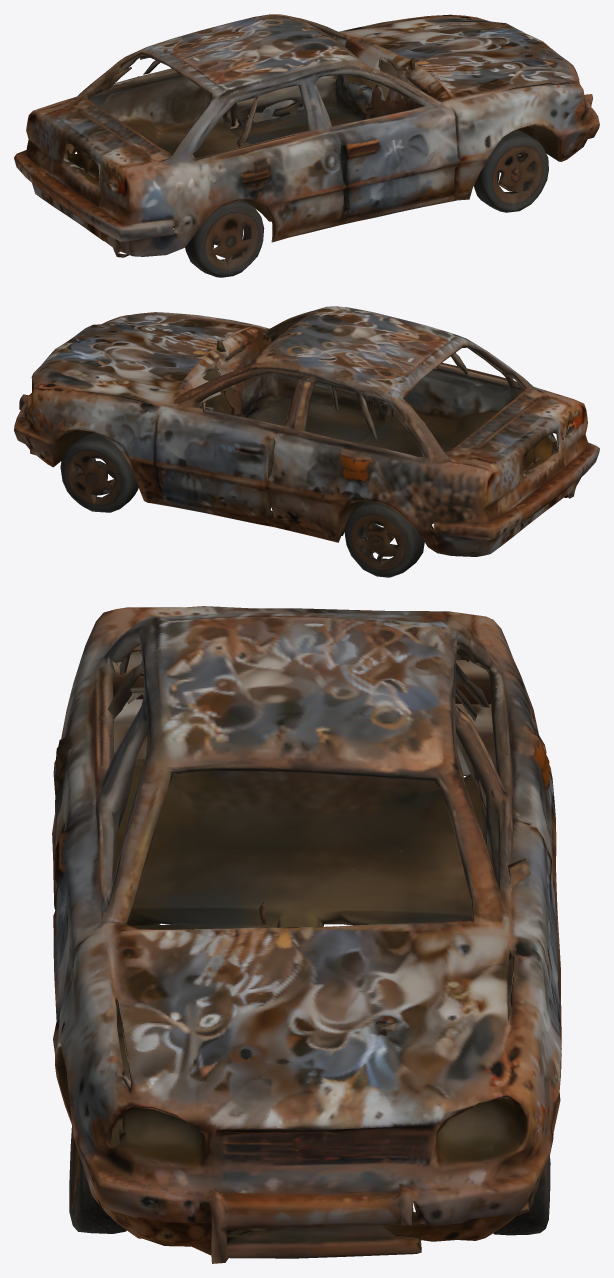
Rendered from wreck.glb.
3 renders of one model, top to bottom at view 1: azimuth 30°, elevation 25°; view 2: azimuth 150°, elevation 25°; view 3: azimuth 270°, elevation 25°, orthographic. The views are drawn at different scales.
Visible parts, largest first — view 1: tripo_node_1b298efb-ad02-42ea-9340-f791b65c3d16; view 2: tripo_node_1b298efb-ad02-42ea-9340-f791b65c3d16; view 3: tripo_node_1b298efb-ad02-42ea-9340-f791b65c3d16.
Boxes of the visible parts, x1,y1,x2,y2 form: tripo_node_1b298efb-ad02-42ea-9340-f791b65c3d16: [14, 14, 599, 277]; tripo_node_1b298efb-ad02-42ea-9340-f791b65c3d16: [14, 306, 599, 577]; tripo_node_1b298efb-ad02-42ea-9340-f791b65c3d16: [52, 606, 561, 1263].
Bounding box in the file's own units: 4.4 × 1.46 × 1.89.
1 material, 1 textured.
